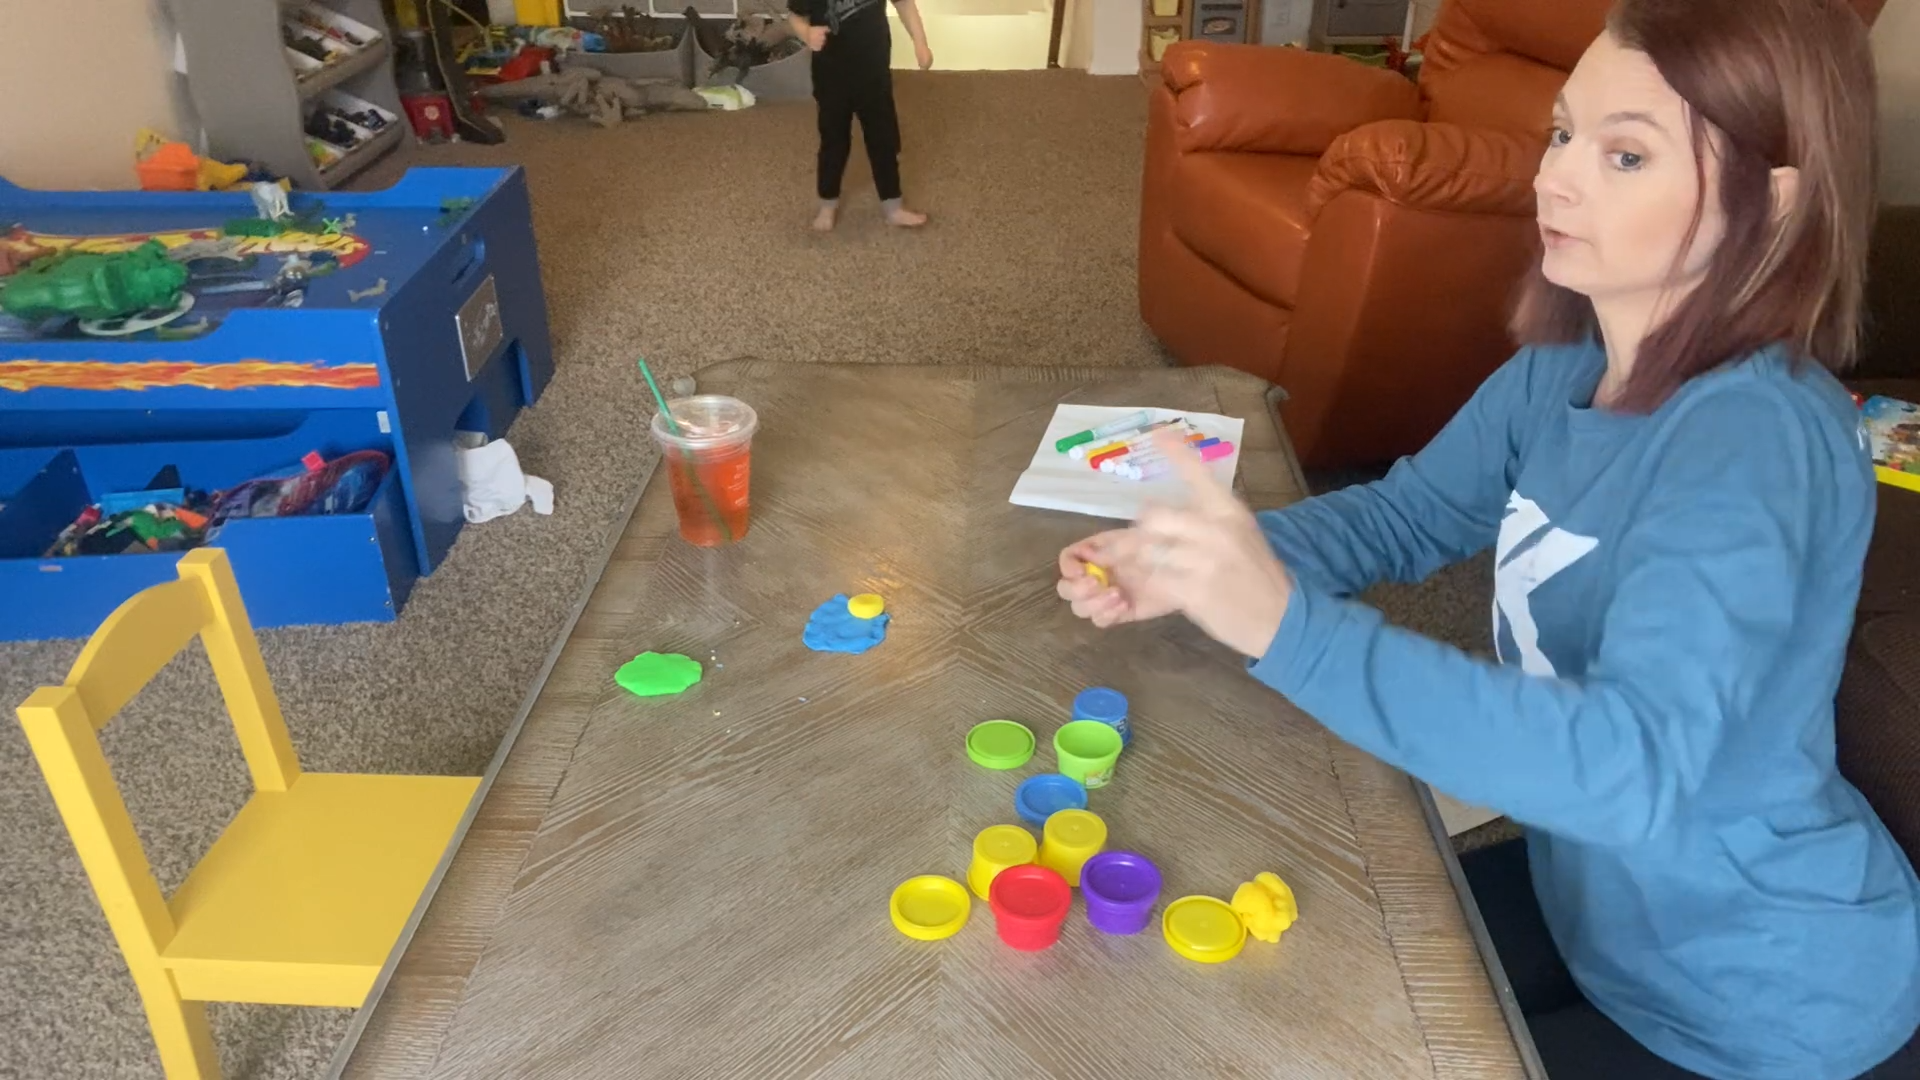Therapist: (1113, 7, 1920, 1080)
